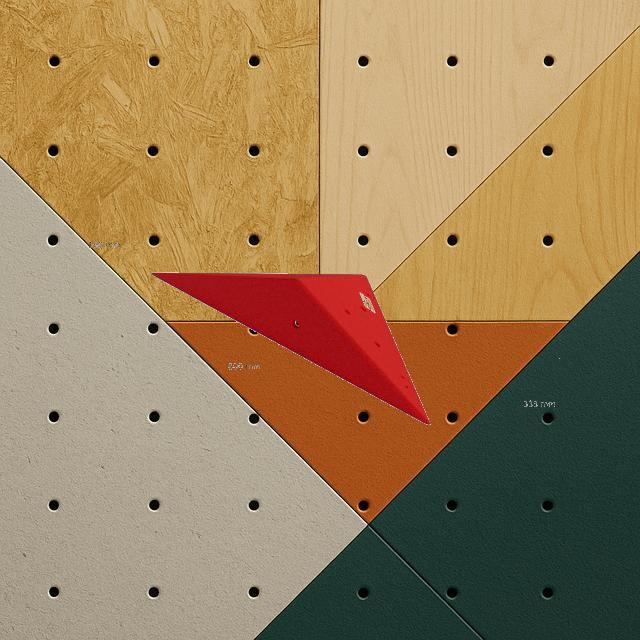Volume: (151, 272, 429, 426)
